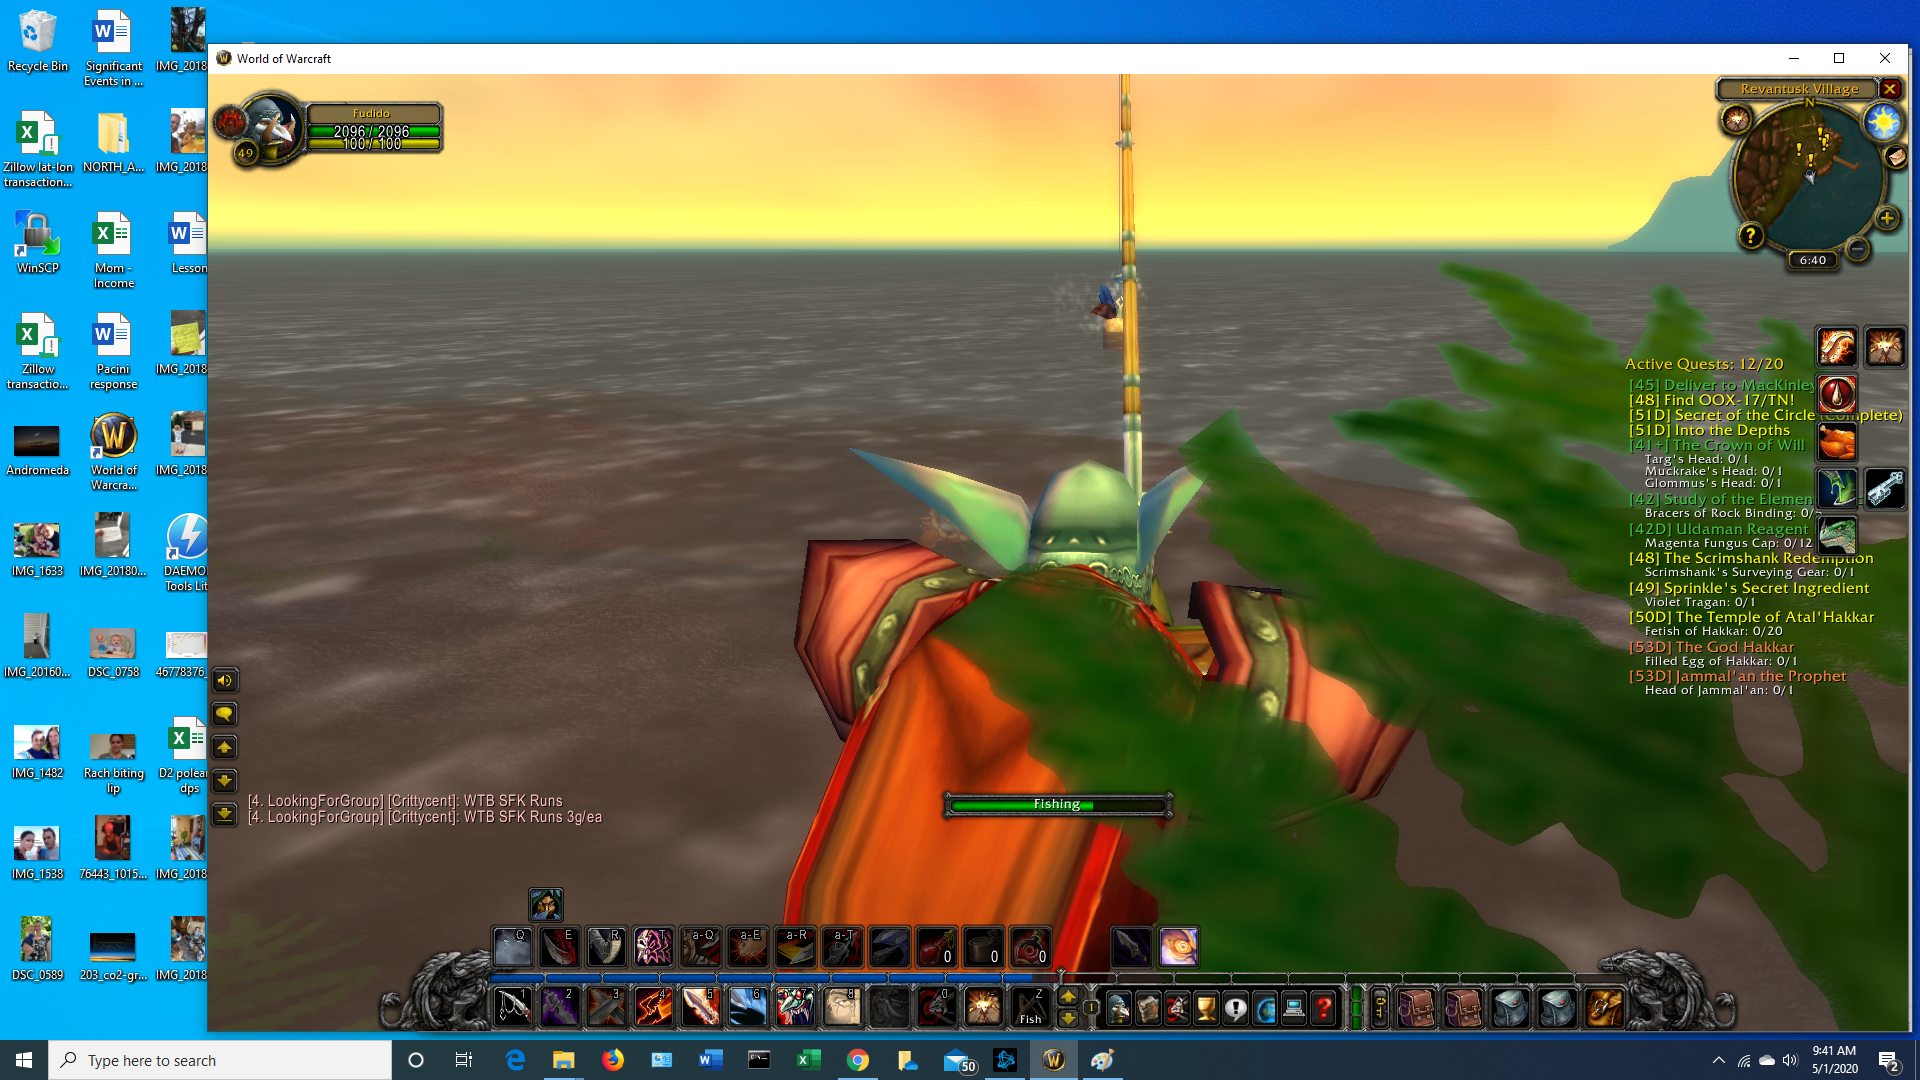bobble: (1080, 274, 1139, 353)
